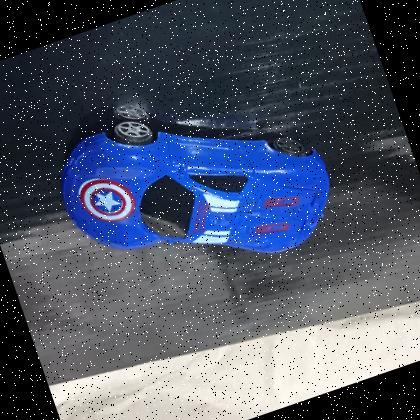Car: (34, 53, 360, 323)
